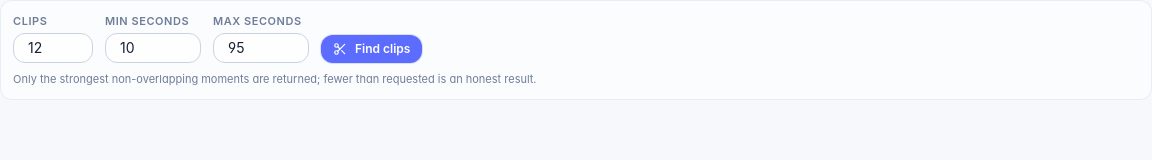
it: DiscoveryControls › reports the upper clip-count bound
Step 1. Replace the text in the number field named "Number of clips" with "100" → (53, 48), box [13,33,93,63]
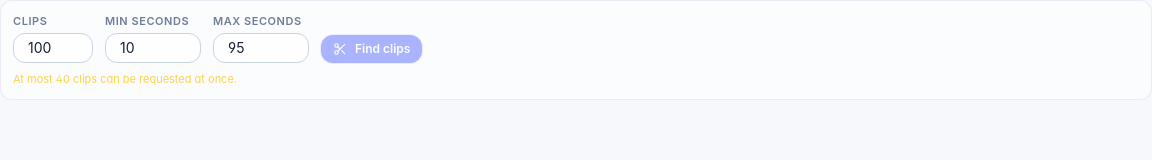
Check: the text "At most 40 clips can be requested at once." is shown, box [13,72,237,86]
